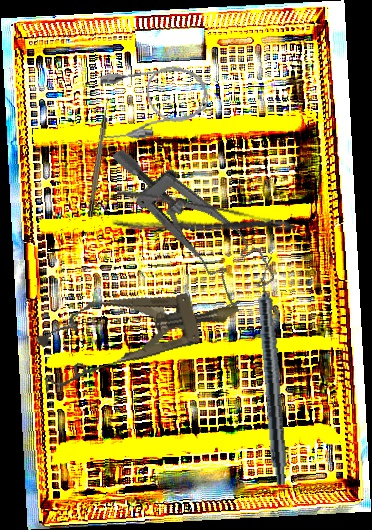Cannula: (91, 59, 214, 145)
Dressing Forceps: (110, 186, 298, 260)
Handpiece: (252, 256, 294, 487)
Hook Surgical: (86, 96, 112, 218)
Speculum: (110, 114, 278, 323), (28, 269, 248, 395)
